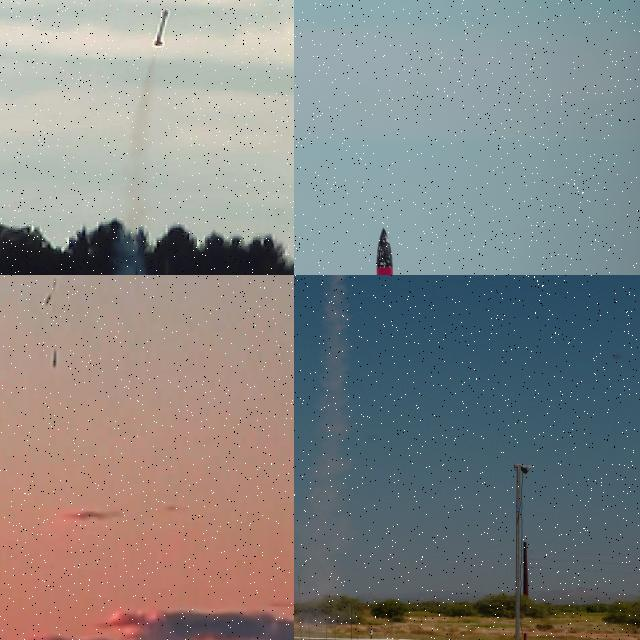Rocket: (363, 227, 403, 275), (152, 8, 170, 48), (52, 349, 57, 366)
